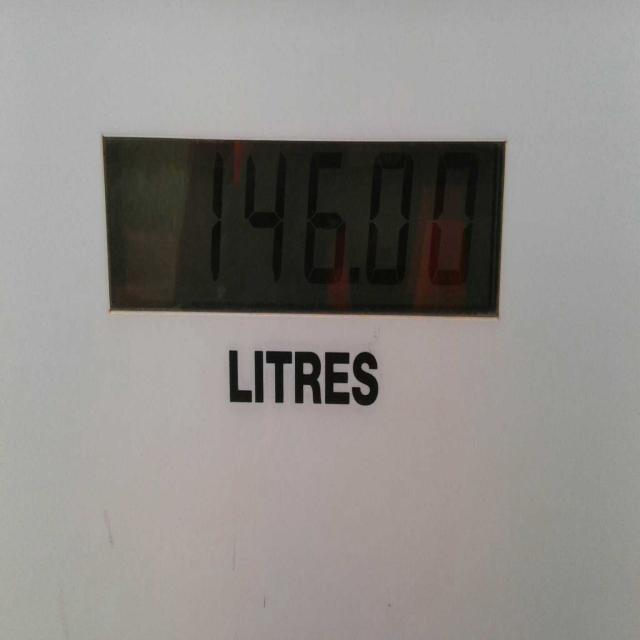.: (356, 153, 426, 291), (340, 257, 362, 302)
1: (194, 143, 238, 300)
4: (239, 152, 292, 292)
6: (296, 138, 348, 318)
